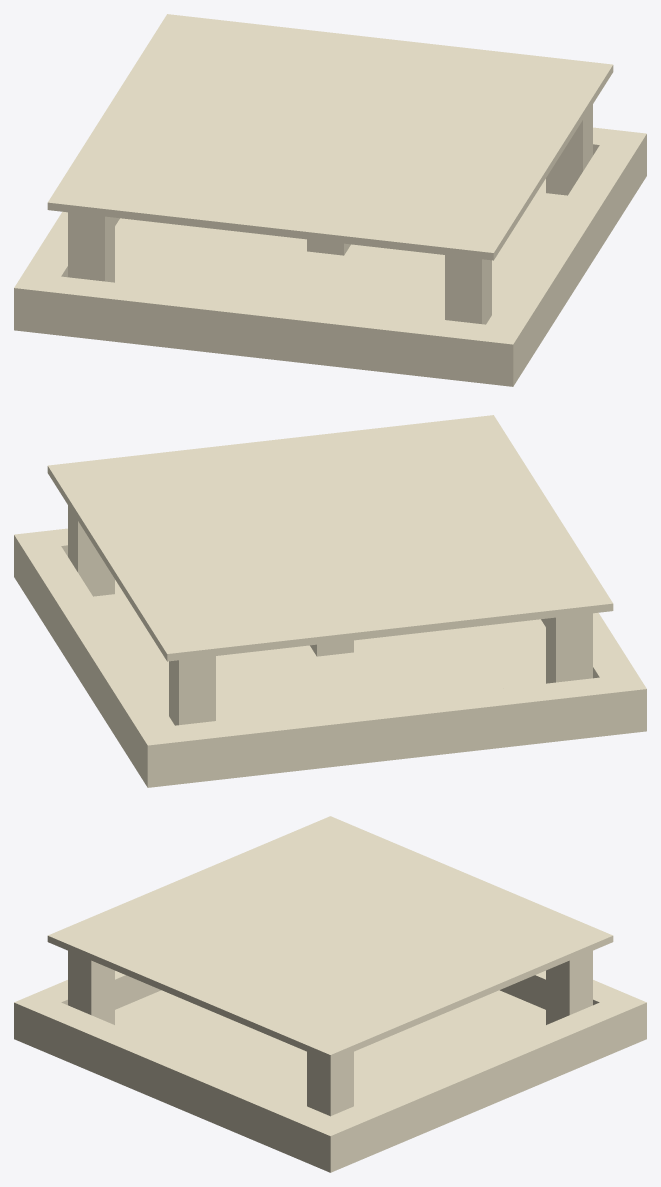
The model's file is Table.fbx.
The picture shows the model from 3 angles, top to bottom: view 1: azimuth 30°, elevation 25°; view 2: azimuth 150°, elevation 25°; view 3: azimuth 270°, elevation 25°; orthographic projection. The views are drawn at different scales.
Visible parts, largest first — view 1: TABLE Top, TABLE Base, TABLE Barrier 4, TABLE Barrier 2, TABLE Barrier 1, TABLE Leg 4, TABLE Leg 5, TABLE Leg 2; view 2: TABLE Top, TABLE Base, TABLE Barrier 1, TABLE Barrier 3, TABLE Leg 4, TABLE Leg 3, TABLE Leg 2, TABLE Barrier 4, TABLE Barrier 2; view 3: TABLE Top, TABLE Base, TABLE Barrier 2, TABLE Barrier 3, TABLE Leg 3, TABLE Leg 5, TABLE Leg 2, TABLE Barrier 4, TABLE Barrier 1.
Part boxes in pixels (x1,y1,x2,y2): TABLE Top: (47,14,613,260); TABLE Base: (14,169,646,386); TABLE Barrier 4: (51,276,523,379); TABLE Barrier 2: (486,129,646,362); TABLE Barrier 1: (14,211,119,326); TABLE Leg 4: (68,212,114,282); TABLE Leg 5: (445,255,491,324); TABLE Leg 2: (546,104,592,195); TABLE Top: (47,415,613,661); TABLE Base: (14,570,646,787); TABLE Barrier 1: (175,673,646,776); TABLE Barrier 3: (24,546,184,780); TABLE Leg 4: (546,613,592,683); TABLE Leg 3: (169,656,215,725); TABLE Leg 2: (68,505,114,596); TABLE Barrier 4: (541,612,636,678); TABLE Barrier 2: (14,528,67,584); TABLE Top: (47,816,613,1061); TABLE Base: (14,990,646,1172); TABLE Barrier 2: (37,1002,353,1166); TABLE Barrier 3: (331,992,646,1156); TABLE Leg 3: (546,951,592,1024); TABLE Leg 5: (68,951,114,1024); TABLE Leg 2: (307,1052,353,1116); TABLE Barrier 4: (14,970,160,1042); TABLE Barrier 1: (500,970,622,1009).
Bounding box in the file's own units: 169 × 30.48 × 169.
